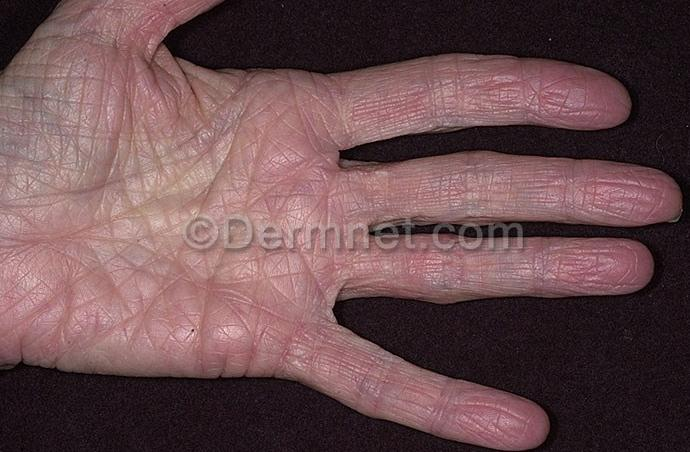liquenificacion 3: (0, 0, 684, 452)
